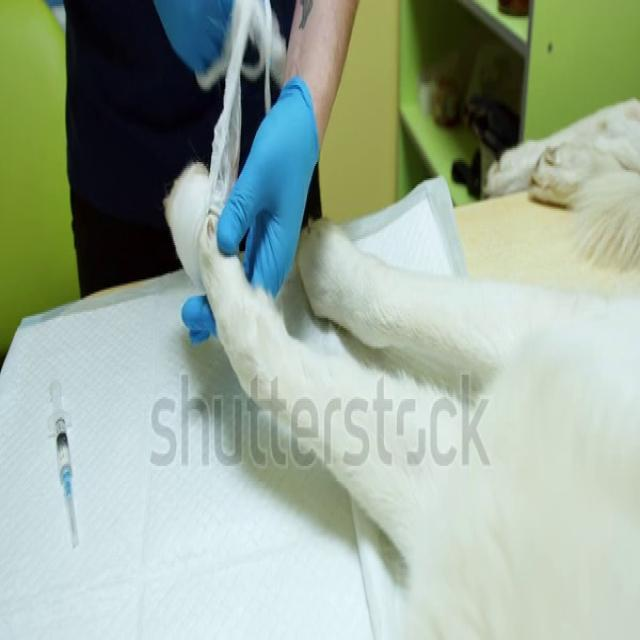injured-animals: (124, 84, 640, 640)
